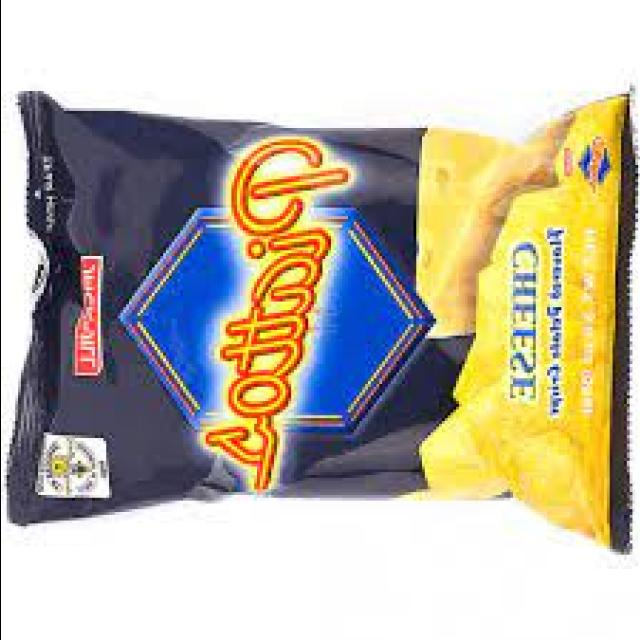junkfood wrapper: (9, 92, 632, 550)
